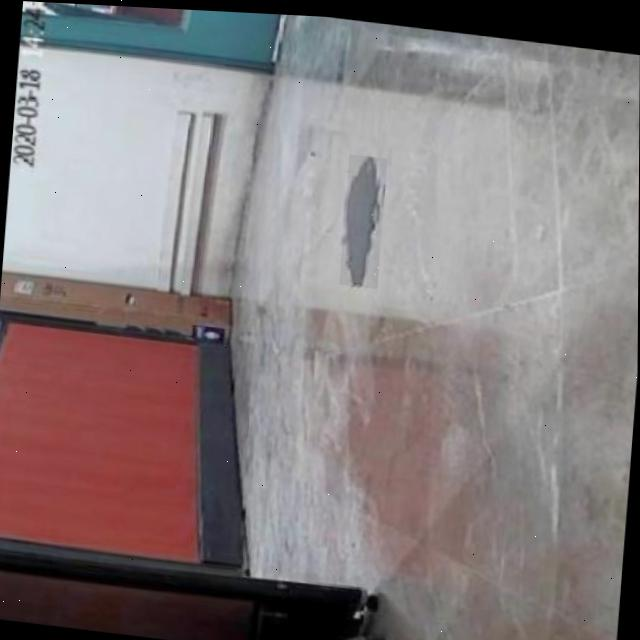spillage: (340, 153, 383, 281)
